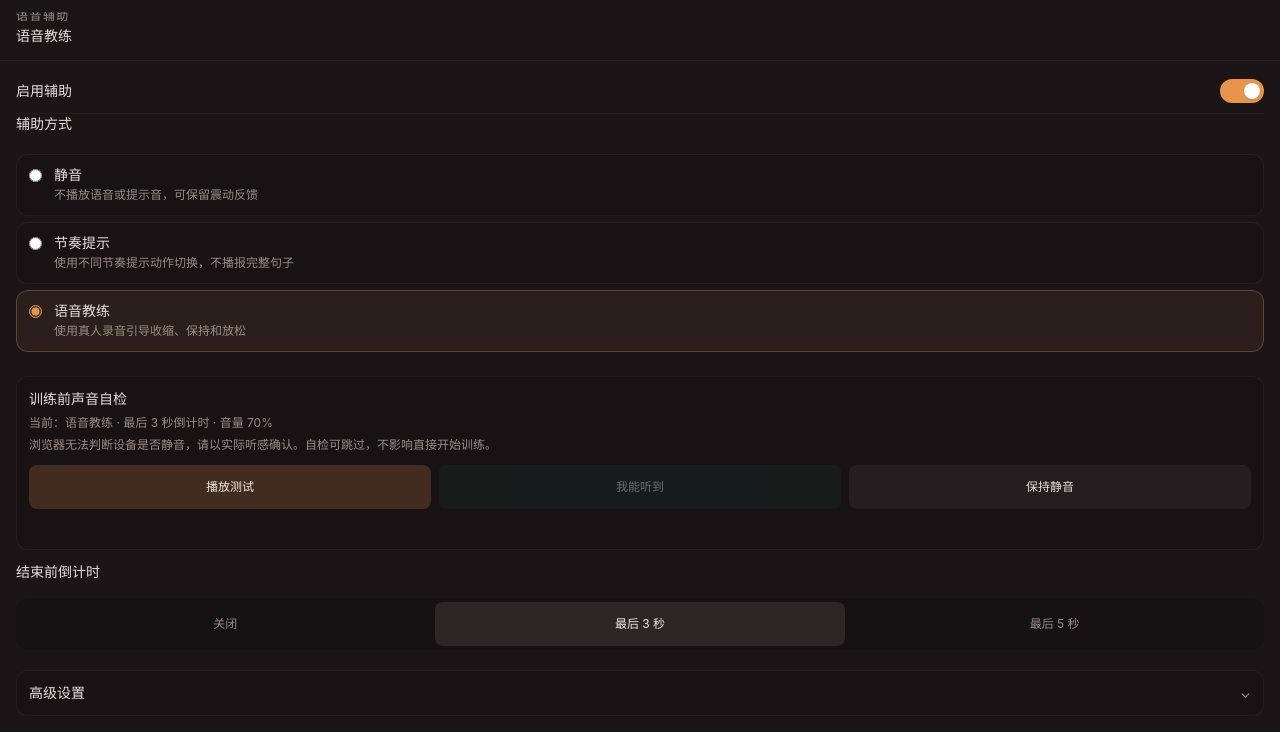
VoiceSettingsPanel › plays a sample and lets the user confirm it was audible
The width and height of the screenshot is (1280, 732).
(page scrolled)
Click the button "播放测试" at x=230, y=487, box [29, 465, 431, 509]
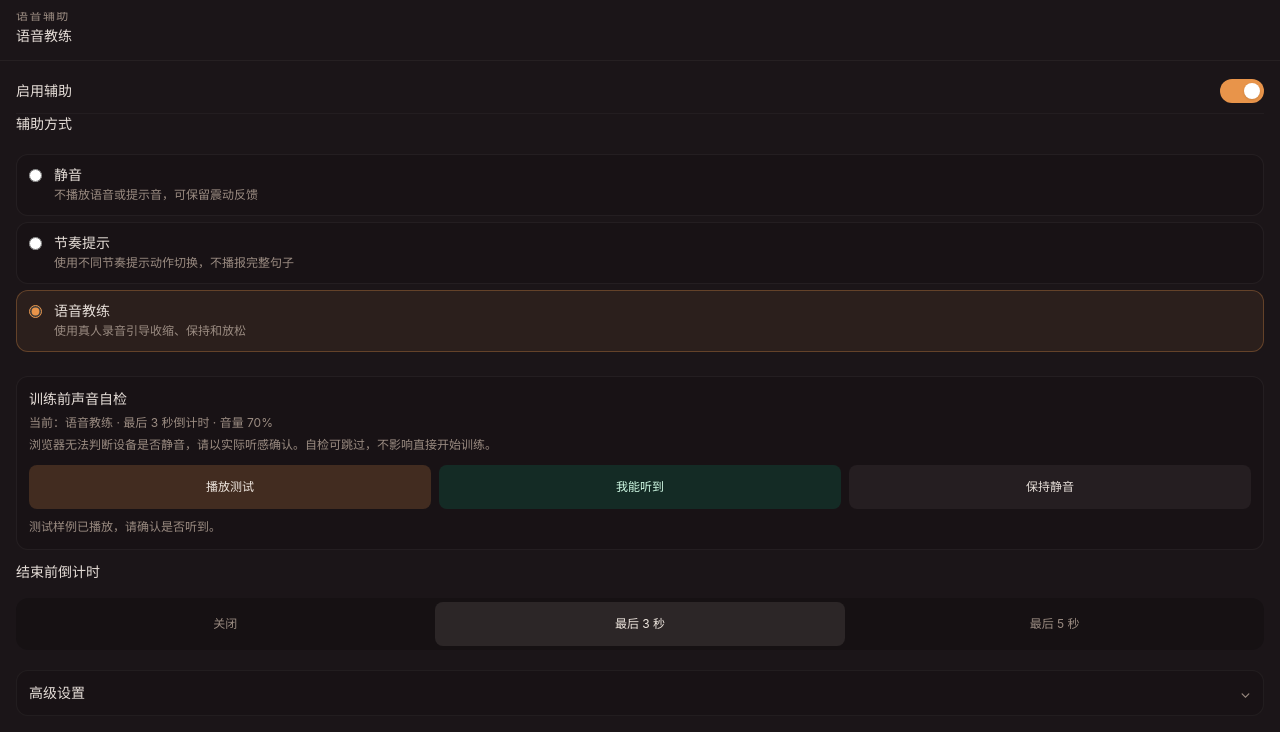
Expected: the text "测试样例已播放，请确认是否听到。" is shown, [29, 519, 221, 534]
Click the button "我能听到" at x=640, y=487, box [439, 465, 841, 509]
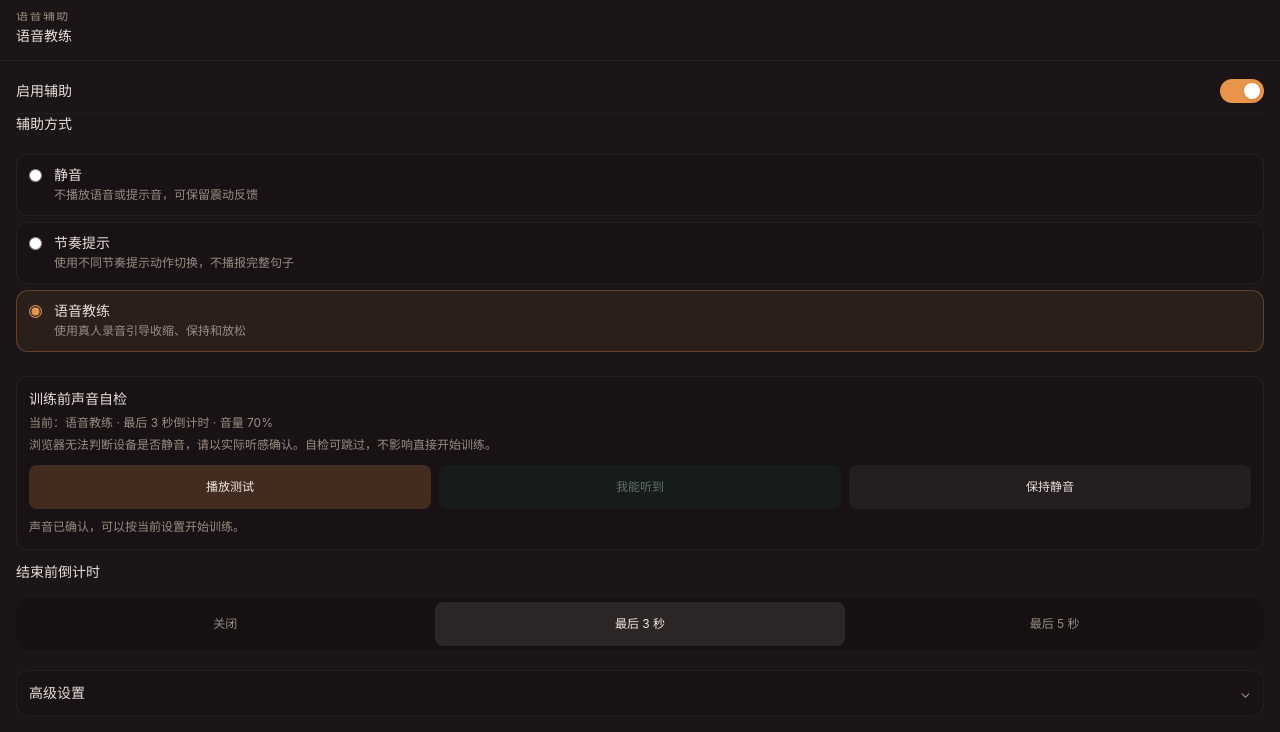
Expected: the text "声音已确认，可以按当前设置开始训练。" is shown, [29, 519, 245, 534]
